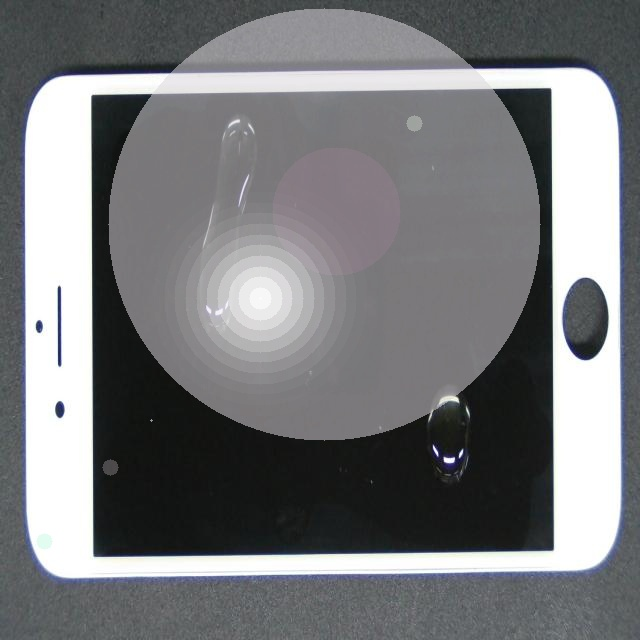oil: (251, 221, 640, 597), (129, 123, 384, 232)
